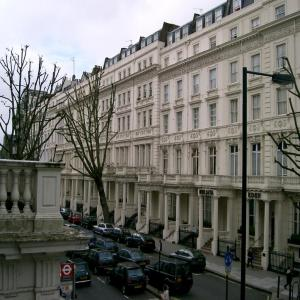Vehicle-registration-plate: (136, 285, 143, 290), (105, 268, 113, 272), (82, 278, 89, 282), (178, 279, 183, 284), (140, 263, 147, 266), (199, 260, 205, 263)
